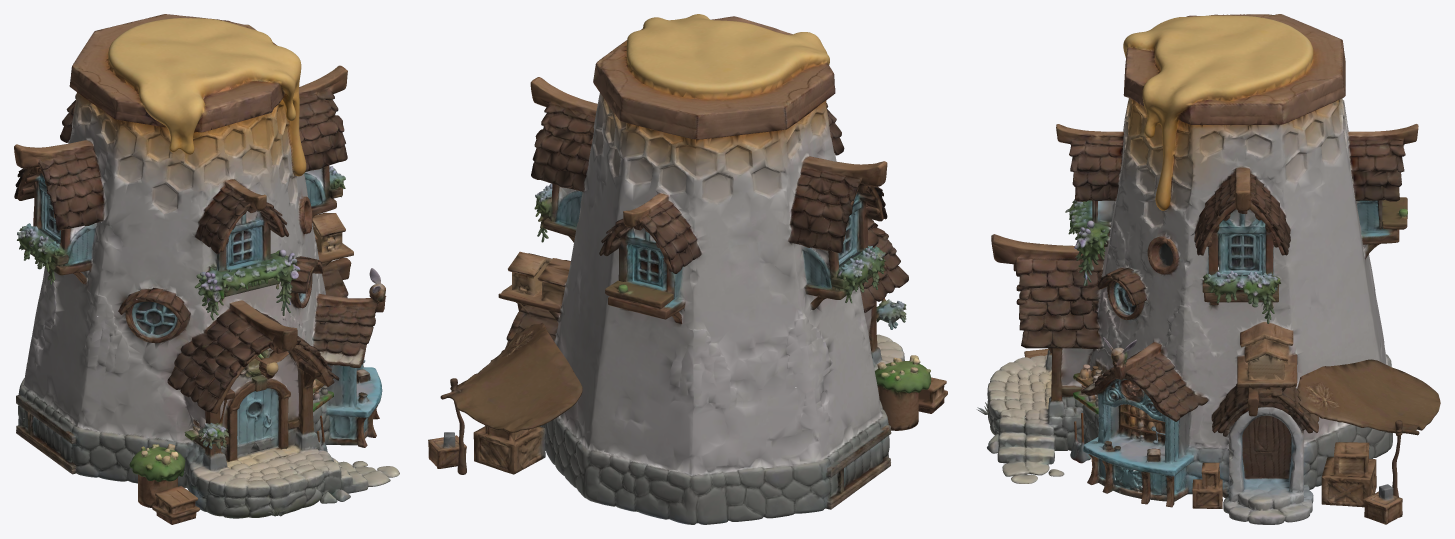
Rendered from fantasy-beehive-cottage.glb.
The picture shows the model from 3 angles, left to right: view 1: azimuth 30°, elevation 25°; view 2: azimuth 150°, elevation 25°; view 3: azimuth 270°, elevation 25°; orthographic projection. The views are drawn at different scales.
Visible parts, largest first — view 1: tripo_node_c09fecdb-cc0c-43c5-8943-1c0c15e8ade3; view 2: tripo_node_c09fecdb-cc0c-43c5-8943-1c0c15e8ade3; view 3: tripo_node_c09fecdb-cc0c-43c5-8943-1c0c15e8ade3.
Boxes of the visible parts, box(x1,y1,x2,y2) form: tripo_node_c09fecdb-cc0c-43c5-8943-1c0c15e8ade3: box(14, 14, 399, 524); tripo_node_c09fecdb-cc0c-43c5-8943-1c0c15e8ade3: box(428, 14, 947, 524); tripo_node_c09fecdb-cc0c-43c5-8943-1c0c15e8ade3: box(976, 14, 1440, 524).
Bounding box in the file's own units: 0.9093 × 0.9151 × 0.9984.
1 material, 1 textured.
